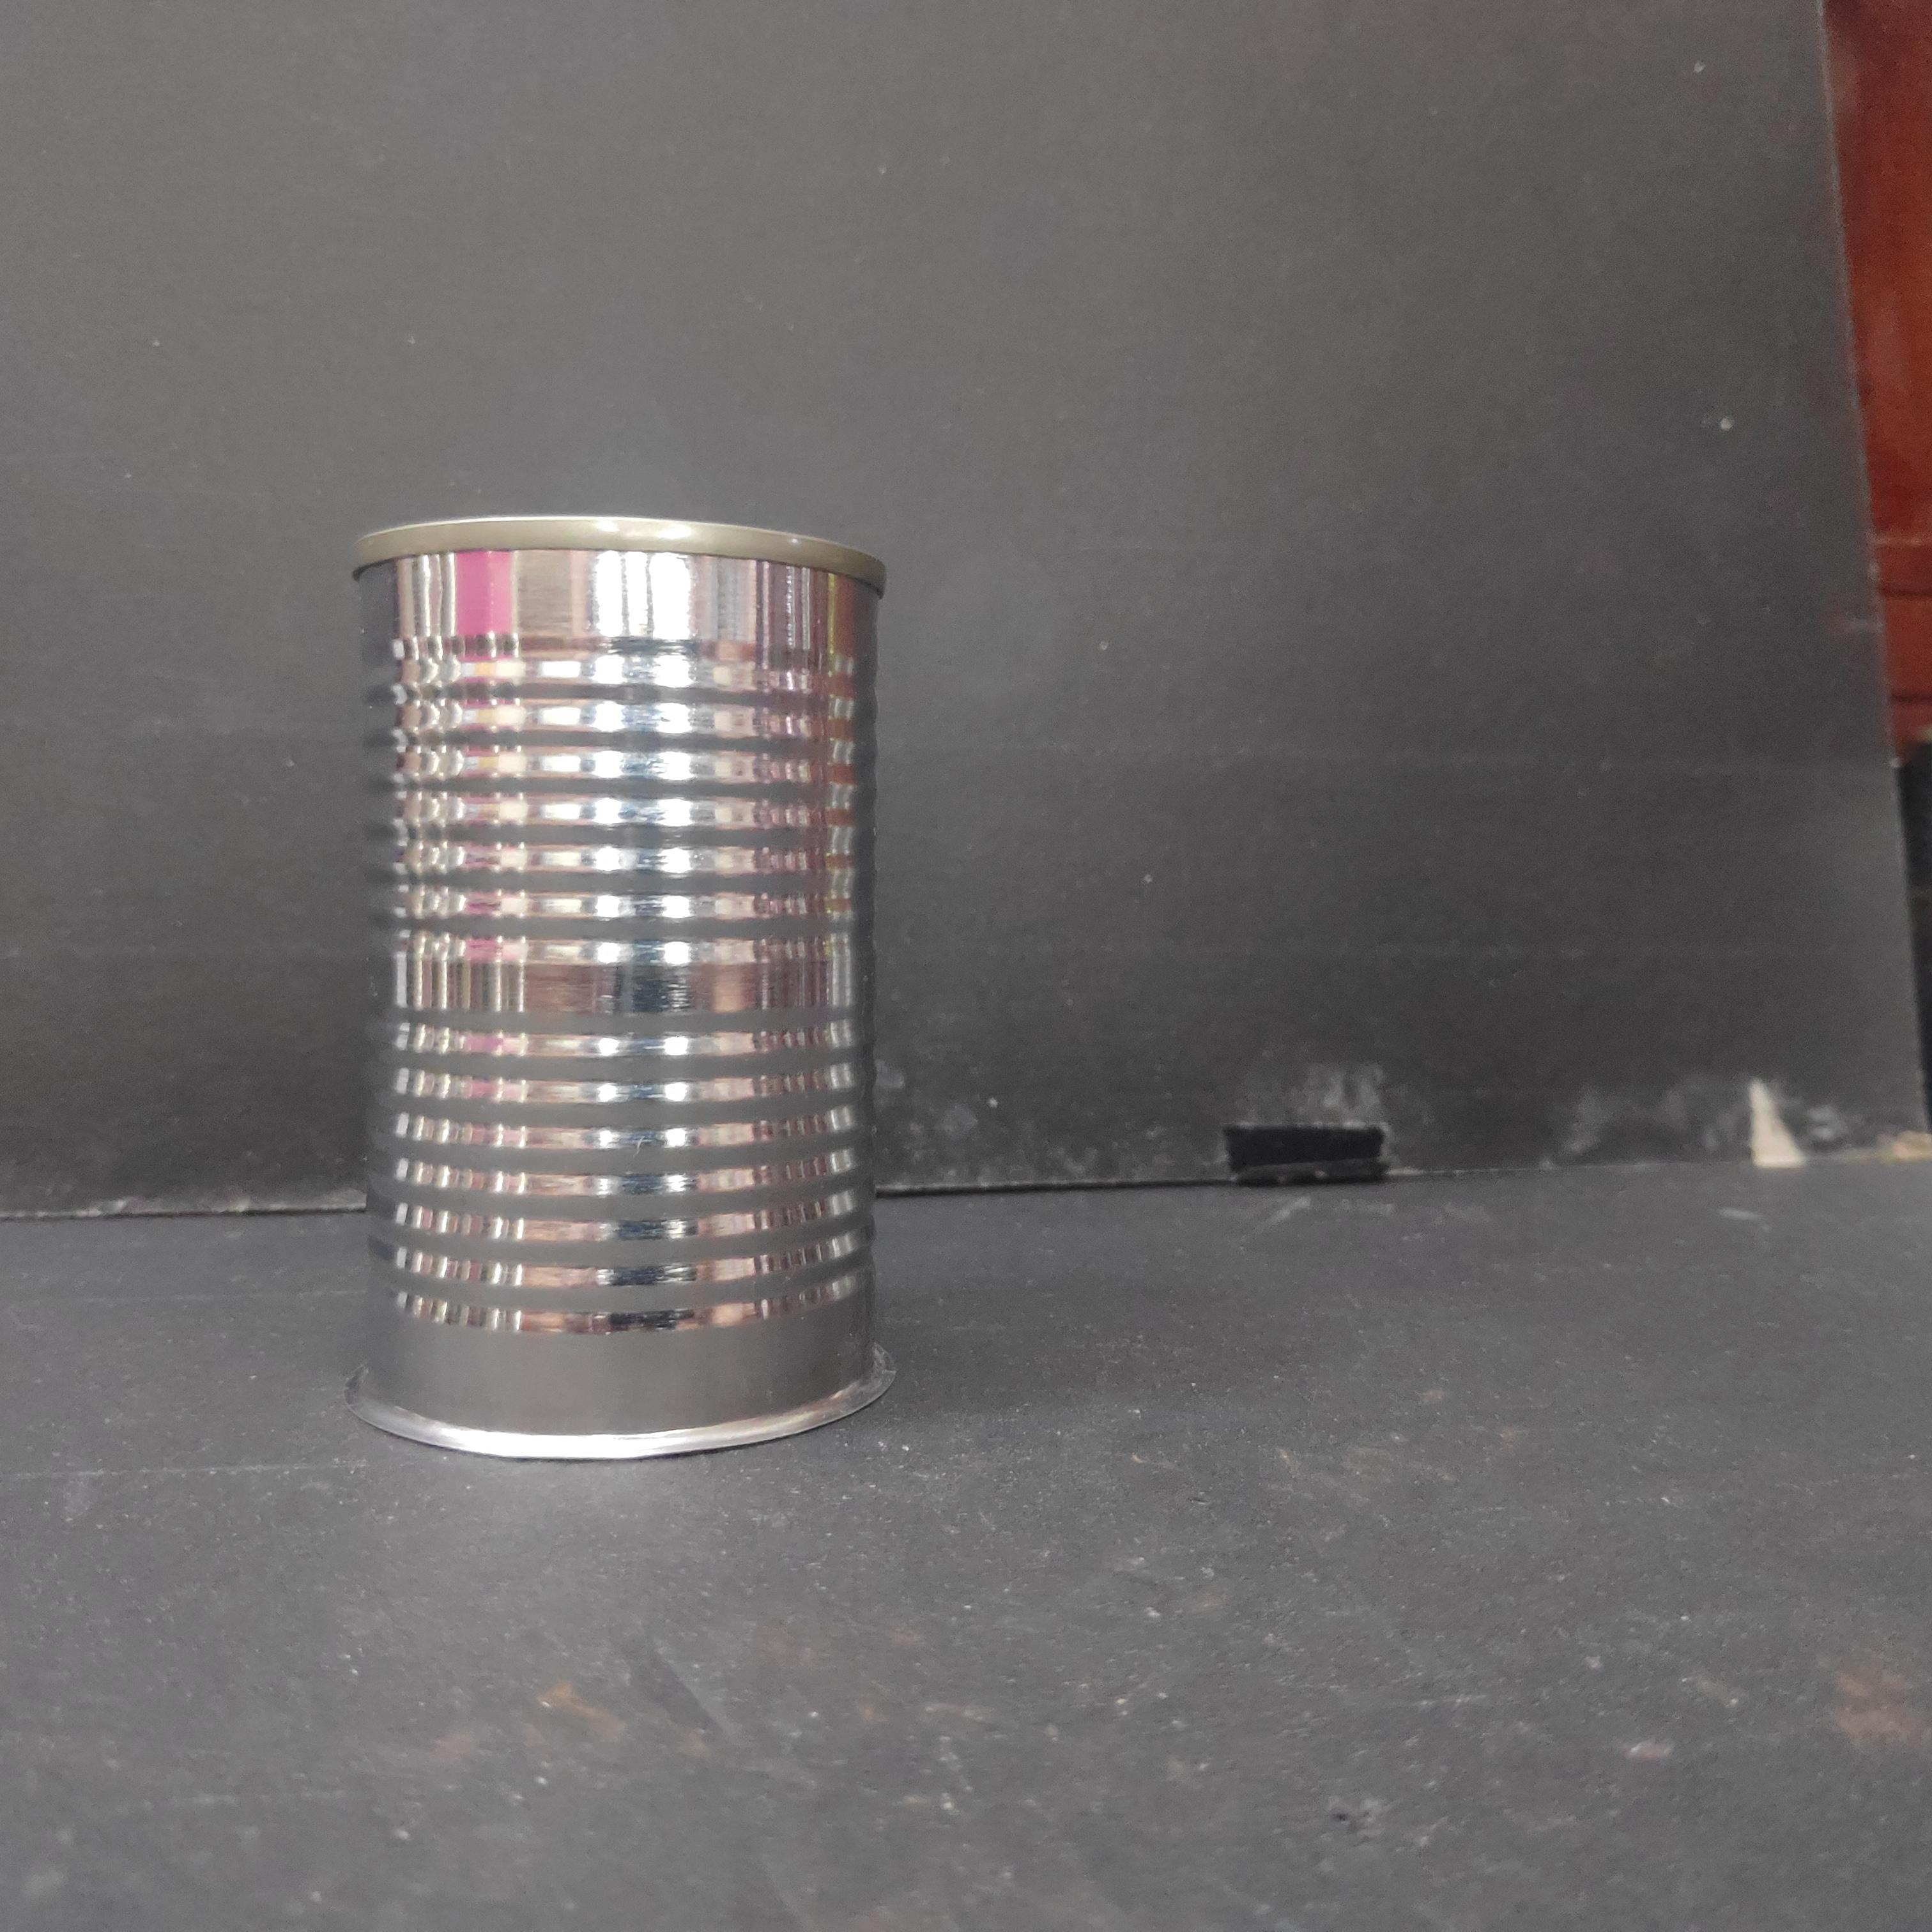No defect: (343, 506, 904, 1470)
